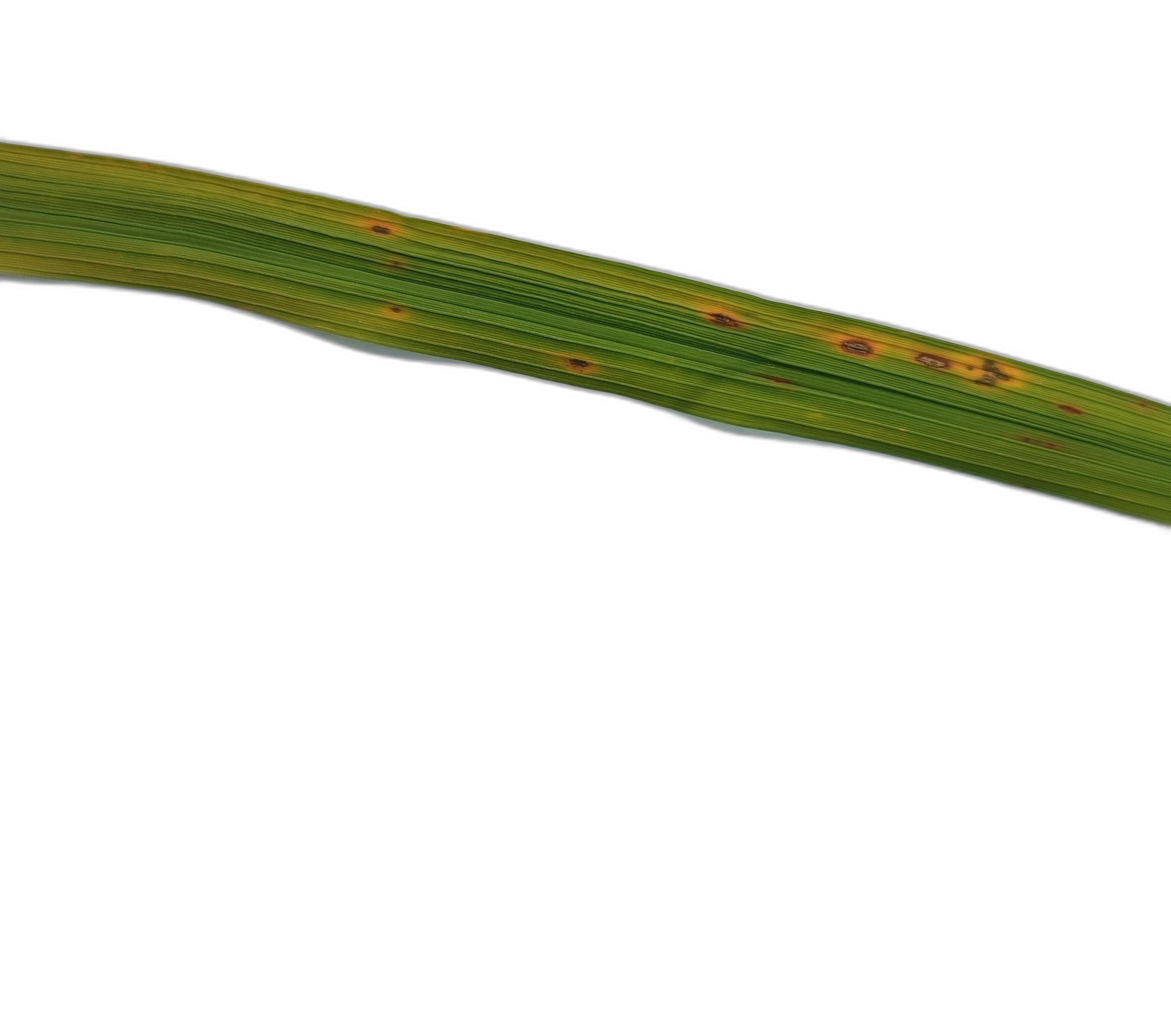LEAF BLAST: (832, 328, 880, 359), (979, 358, 1024, 387), (704, 307, 745, 328), (912, 351, 952, 371), (972, 370, 996, 387), (565, 357, 591, 370)
